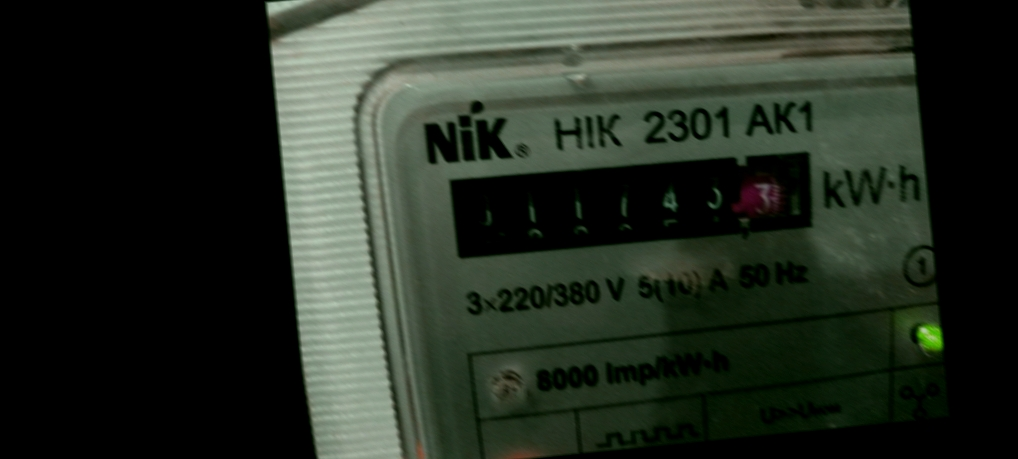0: (471, 188, 497, 229), (521, 183, 542, 225)
1: (567, 179, 587, 222)
3: (702, 169, 726, 213), (751, 177, 775, 217)
4: (657, 173, 681, 215)
7: (610, 174, 637, 220)
screen: (429, 129, 826, 274)
